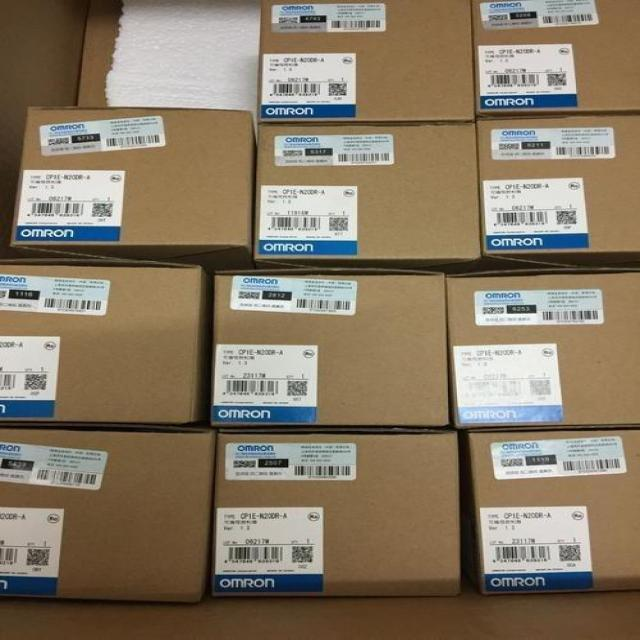box: (219, 433, 472, 607), (0, 425, 226, 605), (0, 252, 215, 434), (212, 269, 452, 428), (0, 110, 244, 257), (251, 119, 485, 264), (458, 427, 640, 601), (445, 266, 640, 426), (254, 0, 470, 121), (475, 118, 640, 267), (469, 0, 640, 121)
